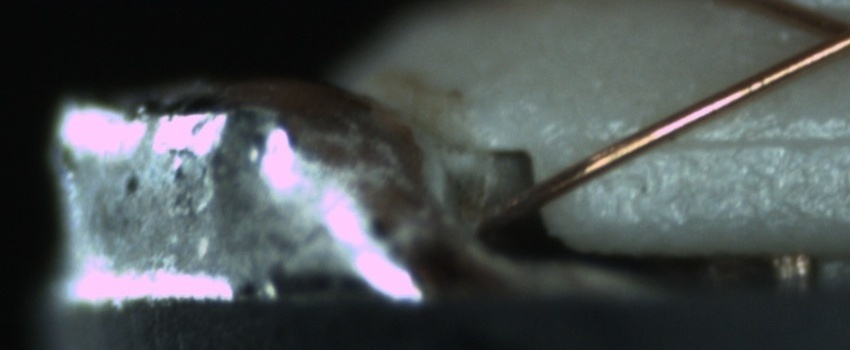CL: (798, 2, 850, 64)
DL: (616, 105, 845, 174)
